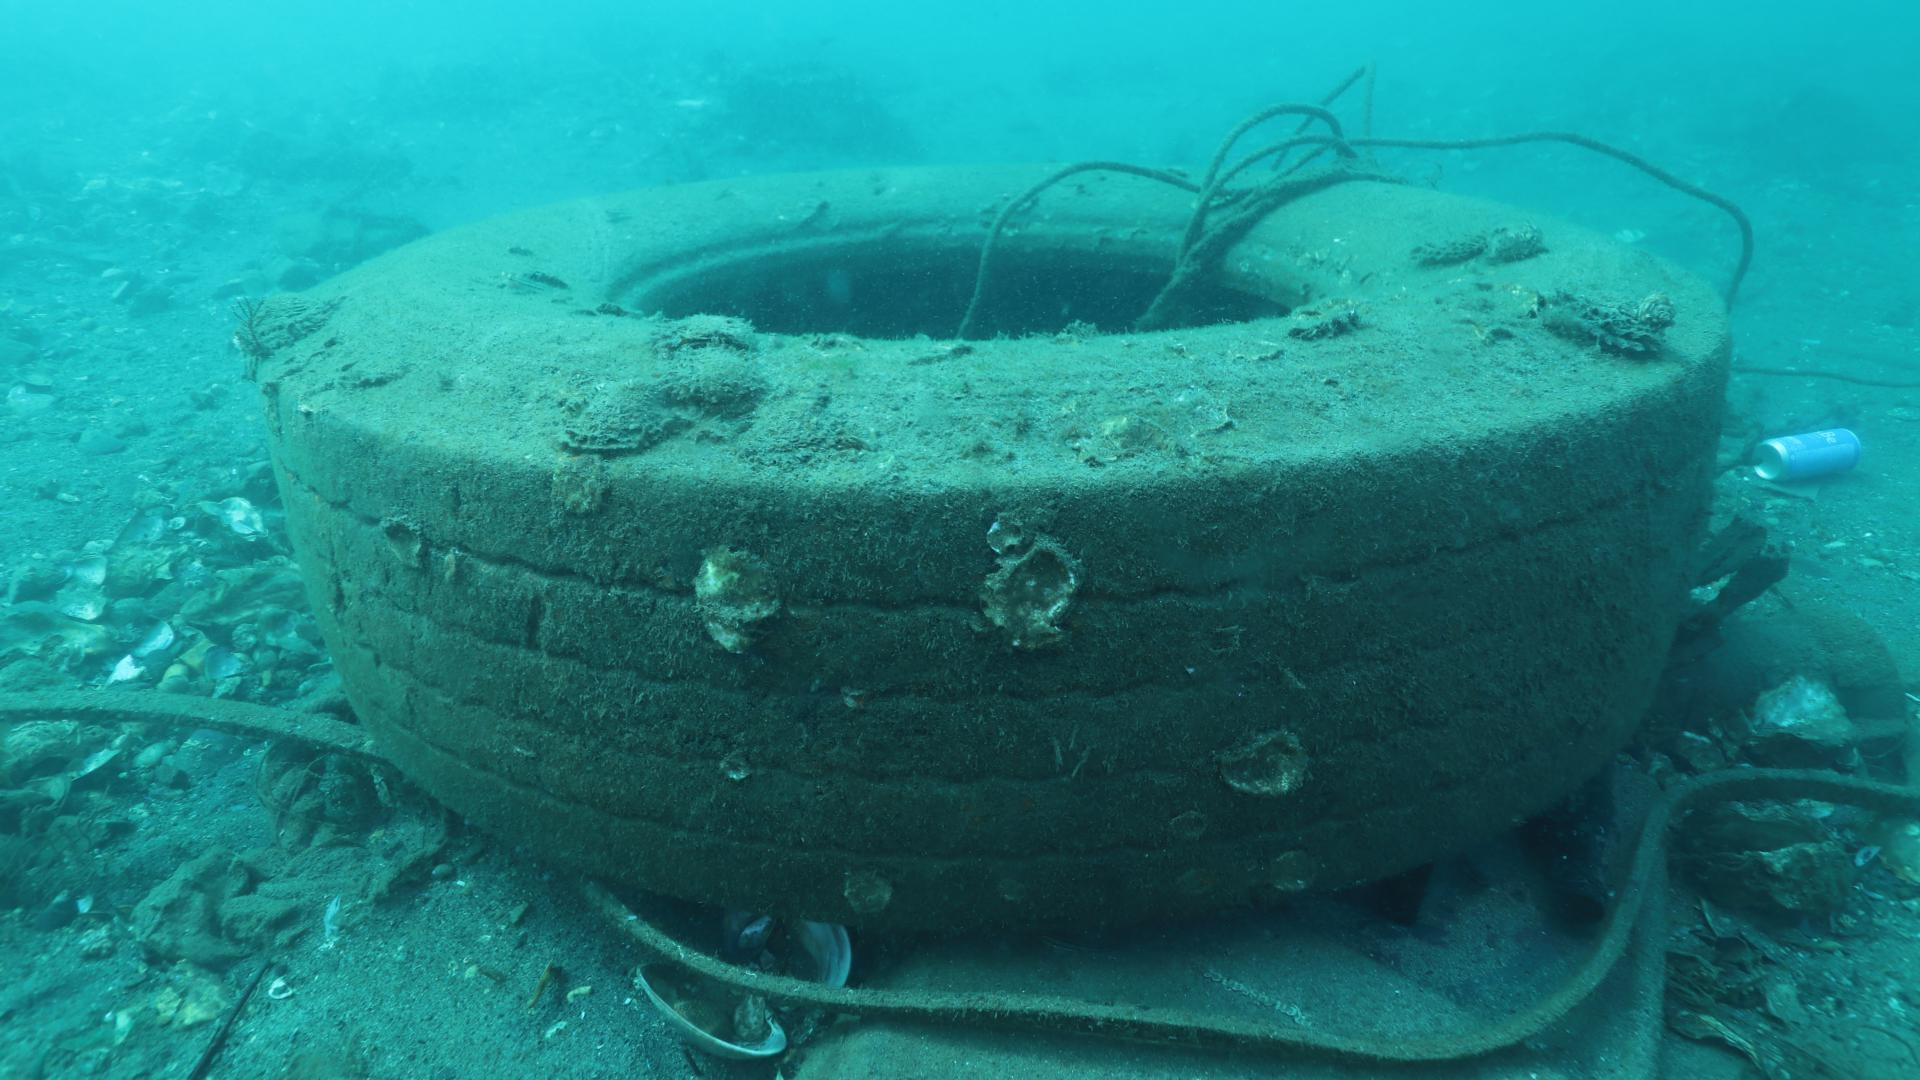bundle of ropes: (956, 57, 1755, 340)
tire: (255, 160, 1733, 926)
